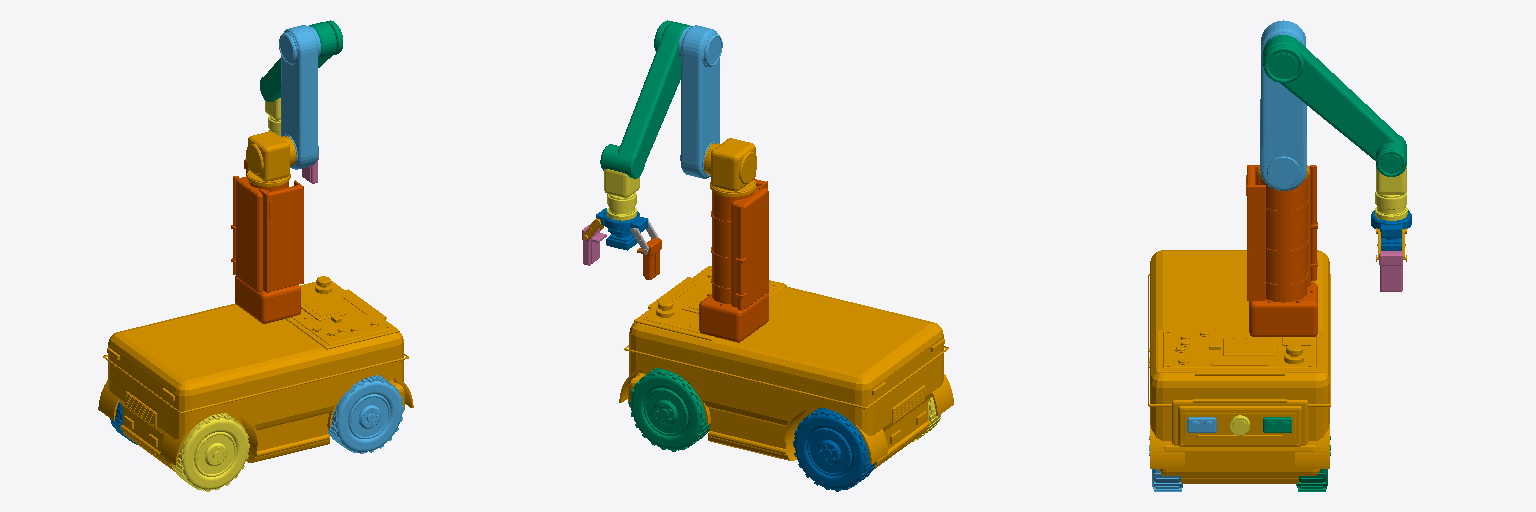
The robot description file, URDF, robot "ax_1":
<?xml version='1.0' encoding='utf-8'?>
<robot name="ax_1">
  <link name="base_link">
    <visual>
      <geometry>
        <mesh filename="package://ax_description/meshes/parts/AX_1/ax_body.obj" scale="0.001 0.001 0.001" />
      </geometry>
    </visual>
    <inertial>
      <origin xyz="0 0 0" rpy="0 0 0" />
      <mass value="1.0" />
      <inertia ixx="0.01" ixy="0" ixz="0" iyy="0.01" iyz="0" izz="0.01" />
    </inertial>
  
    <collision name="body_collision">
      <origin xyz="0 0 0.35" />
      <geometry>
        <box size="1.0 0.6 0.3" />
      </geometry>
    </collision>
</link>
  <link name="wheel_right_front">
    <visual>
      <origin xyz="-0.440 0.311 -0.190" rpy="0 0 0" />
      <geometry>
        <mesh filename="package://ax_description/meshes/parts/AX_1/ax_tire_right_front.obj" scale="0.001 0.001 0.001" />
      </geometry>
    </visual>
    <inertial>
      <origin xyz="0 0 0" rpy="0 0 0" />
      <mass value="1.0" />
      <inertia ixx="0.01" ixy="0" ixz="0" iyy="0.01" iyz="0" izz="0.01" />
    </inertial>
  <collision><origin xyz="0 0 0" rpy="1.57079632679 0 0" /><geometry><cylinder radius="0.196" length="0.144" /></geometry></collision></link>
  <joint name="wheel_right_front_joint" type="continuous">
    <parent link="base_link" />
    <child link="wheel_right_front" />
    <origin xyz="0.440 -0.311 0.190" rpy="0 0 0" />
    <axis xyz="0 1 0" />
  </joint>
  <link name="wheel_left_front">
    <visual>
      <origin xyz="-0.440 -0.311 -0.190" rpy="0 0 0" />
      <geometry>
        <mesh filename="package://ax_description/meshes/parts/AX_1/ax_tire_left_front.obj" scale="0.001 0.001 0.001" />
      </geometry>
    </visual>
    <inertial>
      <origin xyz="0 0 0" rpy="0 0 0" />
      <mass value="1.0" />
      <inertia ixx="0.01" ixy="0" ixz="0" iyy="0.01" iyz="0" izz="0.01" />
    </inertial>
  <collision><origin xyz="0 0 0" rpy="1.57079632679 0 0" /><geometry><cylinder radius="0.196" length="0.144" /></geometry></collision></link>
  <joint name="wheel_left_front_joint" type="continuous">
    <parent link="base_link" />
    <child link="wheel_left_front" />
    <origin xyz="0.440 0.311 0.190" rpy="0 0 0" />
    <axis xyz="0 1 0" />
  </joint>
  <link name="wheel_right_rear">
    <visual>
      <origin xyz="0.440 0.311 -0.190" rpy="0 0 0" />
      <geometry>
        <mesh filename="package://ax_description/meshes/parts/AX_1/ax_tire_right_rear.obj" scale="0.001 0.001 0.001" />
      </geometry>
    </visual>
    <inertial>
      <origin xyz="0 0 0" rpy="0 0 0" />
      <mass value="1.0" />
      <inertia ixx="0.01" ixy="0" ixz="0" iyy="0.01" iyz="0" izz="0.01" />
    </inertial>
  <collision><origin xyz="0 0 0" rpy="1.57079632679 0 0" /><geometry><cylinder radius="0.196" length="0.144" /></geometry></collision></link>
  <joint name="wheel_right_rear_joint" type="continuous">
    <parent link="base_link" />
    <child link="wheel_right_rear" />
    <origin xyz="-0.440 -0.311 0.190" rpy="0 0 0" />
    <axis xyz="0 1 0" />
  </joint>
  <link name="wheel_left_rear">
    <visual>
      <origin xyz="0.440 -0.311 -0.190" rpy="0 0 0" />
      <geometry>
        <mesh filename="package://ax_description/meshes/parts/AX_1/ax_tire_left_rear.obj" scale="0.001 0.001 0.001" />
      </geometry>
    </visual>
    <inertial>
      <origin xyz="0 0 0" rpy="0 0 0" />
      <mass value="1.0" />
      <inertia ixx="0.01" ixy="0" ixz="0" iyy="0.01" iyz="0" izz="0.01" />
    </inertial>
  <collision><origin xyz="0 0 0" rpy="1.57079632679 0 0" /><geometry><cylinder radius="0.196" length="0.144" /></geometry></collision></link>
  <joint name="wheel_left_rear_joint" type="continuous">
    <parent link="base_link" />
    <child link="wheel_left_rear" />
    <origin xyz="-0.440 0.311 0.190" rpy="0 0 0" />
    <axis xyz="0 1 0" />
  </joint>
  <link name="arm_base_mount">
    <visual>
      <geometry>
        <mesh filename="package://ax_description/meshes/parts/AX_1/arm_base_mount.obj" scale="0.001 0.001 0.001" />
      </geometry>
    </visual>
    <inertial>
      <origin xyz="0 0 0" rpy="0 0 0" />
      <mass value="1.0" />
      <inertia ixx="0.01" ixy="0" ixz="0" iyy="0.01" iyz="0" izz="0.01" />
    </inertial>
  </link>
  <joint name="arm_base_mount_joint" type="fixed">
    <parent link="base_link" />
    <child link="arm_base_mount" />
    <origin xyz="0 0 0" rpy="0 0 0" />
  </joint>
  <link name="arm_turret_support">
    <visual>
      <geometry>
        <mesh filename="package://ax_description/meshes/parts/AX_1/arm_turret_support.obj" scale="0.001 0.001 0.001" />
      </geometry>
    </visual>
    <inertial>
      <origin xyz="0 0 0" rpy="0 0 0" />
      <mass value="1.0" />
      <inertia ixx="0.01" ixy="0" ixz="0" iyy="0.01" iyz="0" izz="0.01" />
    </inertial>
  </link>
  <joint name="arm_turret_support_joint" type="fixed">
    <parent link="base_link" />
    <child link="arm_turret_support" />
    <origin xyz="0 0 0" rpy="0 0 0" />
  </joint>
  <link name="arm_turret_column">
    <visual>
      <geometry>
        <mesh filename="package://ax_description/meshes/parts/AX_1/arm_turret_column.obj" scale="0.001 0.001 0.001" />
      </geometry>
    </visual>
    <inertial>
      <origin xyz="0 0 0" rpy="0 0 0" />
      <mass value="1.0" />
      <inertia ixx="0.01" ixy="0" ixz="0" iyy="0.01" iyz="0" izz="0.01" />
    </inertial>
  </link>
  <joint name="arm_turret_column_joint" type="fixed">
    <parent link="base_link" />
    <child link="arm_turret_column" />
    <origin xyz="0 0 0" rpy="0 0 0" />
  </joint>
  <link name="arm_shoulder_link">
    <visual>
      <geometry>
        <mesh filename="package://ax_description/meshes/parts/AX_1/arm_shoulder_link.obj" scale="0.001 0.001 0.001" />
      </geometry>
    </visual>
    <inertial>
      <origin xyz="0 0 0" rpy="0 0 0" />
      <mass value="1.0" />
      <inertia ixx="0.01" ixy="0" ixz="0" iyy="0.01" iyz="0" izz="0.01" />
    </inertial>
  </link>
  <joint name="arm_shoulder_link_joint" type="fixed">
    <parent link="base_link" />
    <child link="arm_shoulder_link" />
    <origin xyz="0 0 0" rpy="0 0 0" />
  </joint>
  <link name="arm_03_upperarm">
    <visual>
      <geometry>
        <mesh filename="package://ax_description/meshes/parts/AX_1/arm_03_upperarm.obj" scale="0.001 0.001 0.001" />
      </geometry>
    </visual>
    <inertial>
      <origin xyz="0 0 0" rpy="0 0 0" />
      <mass value="1.0" />
      <inertia ixx="0.01" ixy="0" ixz="0" iyy="0.01" iyz="0" izz="0.01" />
    </inertial>
  </link>
  <joint name="arm_03_upperarm_joint" type="fixed">
    <parent link="base_link" />
    <child link="arm_03_upperarm" />
    <origin xyz="0 0 0" rpy="0 0 0" />
  </joint>
  <link name="arm_04_forearm">
    <visual>
      <geometry>
        <mesh filename="package://ax_description/meshes/parts/AX_1/arm_04_forearm.obj" scale="0.001 0.001 0.001" />
      </geometry>
    </visual>
    <inertial>
      <origin xyz="0 0 0" rpy="0 0 0" />
      <mass value="1.0" />
      <inertia ixx="0.01" ixy="0" ixz="0" iyy="0.01" iyz="0" izz="0.01" />
    </inertial>
  </link>
  <joint name="arm_04_forearm_joint" type="fixed">
    <parent link="base_link" />
    <child link="arm_04_forearm" />
    <origin xyz="0 0 0" rpy="0 0 0" />
  </joint>
  <link name="gripper_wrist_housing">
    <visual>
      <geometry>
        <mesh filename="package://ax_description/meshes/parts/AX_1/gripper_wrist_housing.obj" scale="0.001 0.001 0.001" />
      </geometry>
    </visual>
    <inertial>
      <origin xyz="0 0 0" rpy="0 0 0" />
      <mass value="1.0" />
      <inertia ixx="0.01" ixy="0" ixz="0" iyy="0.01" iyz="0" izz="0.01" />
    </inertial>
  </link>
  <joint name="gripper_wrist_housing_joint" type="fixed">
    <parent link="base_link" />
    <child link="gripper_wrist_housing" />
    <origin xyz="0 0 0" rpy="0 0 0" />
  </joint>
  <link name="gripper_centerpad">
    <visual>
      <geometry>
        <mesh filename="package://ax_description/meshes/parts/AX_1/gripper_centerpad.obj" scale="0.001 0.001 0.001" />
      </geometry>
    </visual>
    <inertial>
      <origin xyz="0 0 0" rpy="0 0 0" />
      <mass value="1.0" />
      <inertia ixx="0.01" ixy="0" ixz="0" iyy="0.01" iyz="0" izz="0.01" />
    </inertial>
  </link>
  <joint name="gripper_centerpad_joint" type="fixed">
    <parent link="base_link" />
    <child link="gripper_centerpad" />
    <origin xyz="0 0 0" rpy="0 0 0" />
  </joint>
  <link name="gripper_finger_01">
    <visual>
      <geometry>
        <mesh filename="package://ax_description/meshes/parts/AX_1/gripper_finger_01.obj" scale="0.001 0.001 0.001" />
      </geometry>
    </visual>
    <inertial>
      <origin xyz="0 0 0" rpy="0 0 0" />
      <mass value="1.0" />
      <inertia ixx="0.01" ixy="0" ixz="0" iyy="0.01" iyz="0" izz="0.01" />
    </inertial>
  </link>
  <joint name="gripper_finger_01_joint" type="fixed">
    <parent link="base_link" />
    <child link="gripper_finger_01" />
    <origin xyz="0 0 0" rpy="0 0 0" />
  </joint>
  <link name="gripper_finger_02">
    <visual>
      <geometry>
        <mesh filename="package://ax_description/meshes/parts/AX_1/gripper_finger_02.obj" scale="0.001 0.001 0.001" />
      </geometry>
    </visual>
    <inertial>
      <origin xyz="0 0 0" rpy="0 0 0" />
      <mass value="1.0" />
      <inertia ixx="0.01" ixy="0" ixz="0" iyy="0.01" iyz="0" izz="0.01" />
    </inertial>
  </link>
  <joint name="gripper_finger_02_joint" type="fixed">
    <parent link="base_link" />
    <child link="gripper_finger_02" />
    <origin xyz="0 0 0" rpy="0 0 0" />
  </joint>
  <link name="gripper_linkpair_01">
    <visual>
      <geometry>
        <mesh filename="package://ax_description/meshes/parts/AX_1/gripper_linkpair_01.obj" scale="0.001 0.001 0.001" />
      </geometry>
    </visual>
    <inertial>
      <origin xyz="0 0 0" rpy="0 0 0" />
      <mass value="1.0" />
      <inertia ixx="0.01" ixy="0" ixz="0" iyy="0.01" iyz="0" izz="0.01" />
    </inertial>
  </link>
  <joint name="gripper_linkpair_01_joint" type="fixed">
    <parent link="base_link" />
    <child link="gripper_linkpair_01" />
    <origin xyz="0 0 0" rpy="0 0 0" />
  </joint>
  <link name="gripper_linkpair_02">
    <visual>
      <geometry>
        <mesh filename="package://ax_description/meshes/parts/AX_1/gripper_linkpair_02.obj" scale="0.001 0.001 0.001" />
      </geometry>
    </visual>
    <inertial>
      <origin xyz="0 0 0" rpy="0 0 0" />
      <mass value="1.0" />
      <inertia ixx="0.01" ixy="0" ixz="0" iyy="0.01" iyz="0" izz="0.01" />
    </inertial>
  </link>
  <joint name="gripper_linkpair_02_joint" type="fixed">
    <parent link="base_link" />
    <child link="gripper_linkpair_02" />
    <origin xyz="0 0 0" rpy="0 0 0" />
  </joint>
  <link name="ax_side_right">
    <visual>
      <geometry>
        <mesh filename="package://ax_description/meshes/parts/AX_1/ax_side_right.obj" scale="0.001 0.001 0.001" />
      </geometry>
    </visual>
    <inertial>
      <origin xyz="0 0 0" rpy="0 0 0" />
      <mass value="1.0" />
      <inertia ixx="0.01" ixy="0" ixz="0" iyy="0.01" iyz="0" izz="0.01" />
    </inertial>
  </link>
  <joint name="ax_side_right_joint" type="fixed">
    <parent link="base_link" />
    <child link="ax_side_right" />
    <origin xyz="0 0 0" rpy="0 0 0" />
  </joint>
  <link name="ax_side_left">
    <visual>
      <geometry>
        <mesh filename="package://ax_description/meshes/parts/AX_1/ax_side_left.obj" scale="0.001 0.001 0.001" />
      </geometry>
    </visual>
    <inertial>
      <origin xyz="0 0 0" rpy="0 0 0" />
      <mass value="1.0" />
      <inertia ixx="0.01" ixy="0" ixz="0" iyy="0.01" iyz="0" izz="0.01" />
    </inertial>
  </link>
  <joint name="ax_side_left_joint" type="fixed">
    <parent link="base_link" />
    <child link="ax_side_left" />
    <origin xyz="0 0 0" rpy="0 0 0" />
  </joint>
  <link name="ax_side_center">
    <visual>
      <geometry>
        <mesh filename="package://ax_description/meshes/parts/AX_1/ax_side_center.obj" scale="0.001 0.001 0.001" />
      </geometry>
    </visual>
    <inertial>
      <origin xyz="0 0 0" rpy="0 0 0" />
      <mass value="1.0" />
      <inertia ixx="0.01" ixy="0" ixz="0" iyy="0.01" iyz="0" izz="0.01" />
    </inertial>
  </link>
  <joint name="ax_side_center_joint" type="fixed">
    <parent link="base_link" />
    <child link="ax_side_center" />
    <origin xyz="0 0 0" rpy="0 0 0" />
  </joint>
<gazebo><plugin filename="gz-sim-diff-drive-system" name="gz::sim::systems::DiffDrive"><left_joint>wheel_left_front_joint</left_joint><left_joint>wheel_left_rear_joint</left_joint><right_joint>wheel_right_front_joint</right_joint><right_joint>wheel_right_rear_joint</right_joint><wheel_separation>0.622</wheel_separation><wheel_radius>0.196</wheel_radius><topic>/model/AX_1_drive/cmd_vel</topic></plugin></gazebo></robot>

--- What the picture shows (computed from the rendered views, not written in the file) ---
3 views of the same robot in one strip: view 1: azimuth 30°, elevation 25°; view 2: azimuth 150°, elevation 25°; view 3: azimuth 270°, elevation 25° (orthographic).
Robot: ax_1 — 20 links, 19 joints (4 continuous, 15 fixed); root link base_link; default pose: every joint at zero.
Links seen in each view (by area): view 1: base_link, arm_base_mount, arm_03_upperarm, wheel_right_rear, wheel_right_front, arm_shoulder_link, arm_04_forearm; view 2: base_link, arm_base_mount, arm_03_upperarm, arm_04_forearm, wheel_left_rear, wheel_left_front, arm_shoulder_link, gripper_wrist_housing, gripper_centerpad, gripper_finger_01, gripper_finger_02; view 3: base_link, arm_base_mount, arm_04_forearm, arm_03_upperarm, gripper_wrist_housing, gripper_finger_02, gripper_centerpad, wheel_left_front, wheel_right_front.
Boxes of the visible links, x1,y1,x2,y2 form: base_link: (98, 276, 413, 471); arm_base_mount: (231, 176, 303, 323); arm_03_upperarm: (279, 25, 320, 169); wheel_right_rear: (172, 413, 249, 491); wheel_right_front: (328, 375, 403, 453); arm_shoulder_link: (246, 131, 296, 186); arm_04_forearm: (260, 20, 342, 101); base_link: (619, 266, 953, 470); arm_base_mount: (699, 179, 768, 342); arm_03_upperarm: (679, 25, 722, 178); arm_04_forearm: (600, 20, 691, 178); wheel_left_rear: (793, 408, 875, 491); wheel_left_front: (629, 368, 709, 451); arm_shoulder_link: (704, 138, 756, 196); gripper_wrist_housing: (604, 169, 639, 220); gripper_centerpad: (596, 208, 647, 250); gripper_finger_01: (637, 238, 661, 279); gripper_finger_02: (582, 223, 606, 265); base_link: (1148, 250, 1330, 483); arm_base_mount: (1246, 165, 1317, 336); arm_04_forearm: (1263, 35, 1406, 176); arm_03_upperarm: (1260, 20, 1306, 190); gripper_wrist_housing: (1375, 166, 1407, 220); gripper_finger_02: (1379, 251, 1402, 291); gripper_centerpad: (1371, 210, 1411, 250); wheel_left_front: (1296, 436, 1330, 491); wheel_right_front: (1149, 436, 1182, 491).
Bounding box of the posed robot: 1.39 × 1.11 × 2.12 m (x, y, z).
20 mesh visuals loaded from 20 distinct referenced files (20 OBJ).
